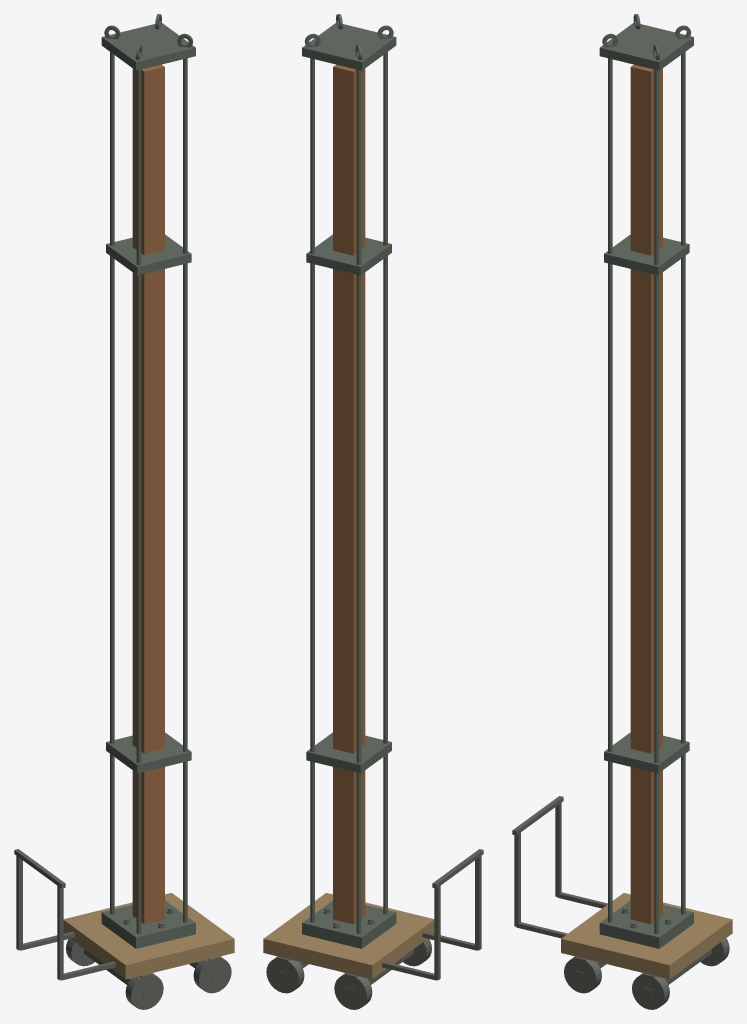
Rendered from cart-fastening.glb.
3 renders of one model, left to right at view 1: azimuth 30°, elevation 25°; view 2: azimuth 150°, elevation 25°; view 3: azimuth 330°, elevation 25°, orthographic.
Visible parts, largest first — view 1: actual-payload.001, cart-bed.001, tension-rod--0.17-0.001, tension-rod-0.17-0.001, tension-rod--0.17--0.001, head-plate.001, bottom-shoe.001, lateral-collar-1.001, lateral-collar-4.001, cart-wheel.004, cart-wheel.002, push-handle-upright.001 (+1 smaller); view 2: actual-payload.001, cart-bed.001, tension-rod--0.17--0.001, tension-rod-0.17--0.001, tension-rod--0.17-0.001, head-plate.001, bottom-shoe.001, lateral-collar-1.001, lateral-collar-4.001, cart-wheel.001, cart-wheel.003, push-handle-upright.004 (+1 smaller); view 3: actual-payload.001, cart-bed.001, tension-rod-0.17-0.001, tension-rod--0.17-0.001, tension-rod-0.17--0.001, head-plate.001, bottom-shoe.001, lateral-collar-1.001, lateral-collar-4.001, cart-wheel.002, cart-wheel.004, push-handle-upright.001 (+1 smaller).
Part boxes in pixels (x1=…): actual-payload.001: x1=132, y1=64, x2=164, y2=924; cart-bed.001: x1=63, y1=893, x2=234, y2=979; tension-rod--0.17-0.001: x1=136, y1=69, x2=141, y2=933; tension-rod-0.17-0.001: x1=183, y1=58, x2=187, y2=922; tension-rod--0.17--0.001: x1=110, y1=52, x2=114, y2=914; head-plate.001: x1=101, y1=14, x2=195, y2=70; bottom-shoe.001: x1=101, y1=900, x2=195, y2=948; lateral-collar-1.001: x1=106, y1=732, x2=191, y2=773; lateral-collar-4.001: x1=106, y1=234, x2=191, y2=275; cart-wheel.004: x1=193, y1=956, x2=231, y2=993; cart-wheel.002: x1=125, y1=973, x2=163, y2=1009; push-handle-upright.001: x1=16, y1=853, x2=22, y2=950; actual-payload.001: x1=333, y1=64, x2=365, y2=924; cart-bed.001: x1=263, y1=893, x2=434, y2=979; tension-rod--0.17--0.001: x1=356, y1=69, x2=361, y2=933; tension-rod-0.17--0.001: x1=310, y1=58, x2=314, y2=922; tension-rod--0.17-0.001: x1=383, y1=52, x2=387, y2=914; head-plate.001: x1=302, y1=14, x2=396, y2=70; bottom-shoe.001: x1=302, y1=900, x2=396, y2=948; lateral-collar-1.001: x1=306, y1=732, x2=391, y2=773; lateral-collar-4.001: x1=306, y1=234, x2=391, y2=275; cart-wheel.001: x1=334, y1=973, x2=372, y2=1009; cart-wheel.003: x1=266, y1=956, x2=304, y2=993; push-handle-upright.004: x1=475, y1=853, x2=481, y2=950; actual-payload.001: x1=630, y1=64, x2=662, y2=924; cart-bed.001: x1=561, y1=893, x2=732, y2=979; tension-rod-0.17-0.001: x1=654, y1=69, x2=658, y2=933; tension-rod--0.17-0.001: x1=608, y1=58, x2=612, y2=922; tension-rod-0.17--0.001: x1=681, y1=52, x2=685, y2=914; head-plate.001: x1=599, y1=14, x2=693, y2=70; bottom-shoe.001: x1=599, y1=900, x2=693, y2=948; lateral-collar-1.001: x1=604, y1=732, x2=689, y2=773; lateral-collar-4.001: x1=604, y1=234, x2=689, y2=275; cart-wheel.002: x1=564, y1=956, x2=601, y2=993; cart-wheel.004: x1=632, y1=973, x2=669, y2=1009; push-handle-upright.001: x1=555, y1=801, x2=561, y2=896.
Size of the model in its own units: 1.22 by 6.66 by 0.84.
